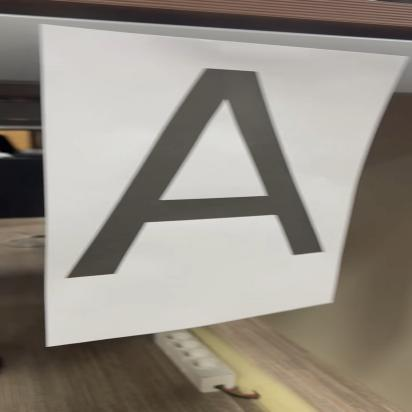seat: (53, 50, 338, 288)
